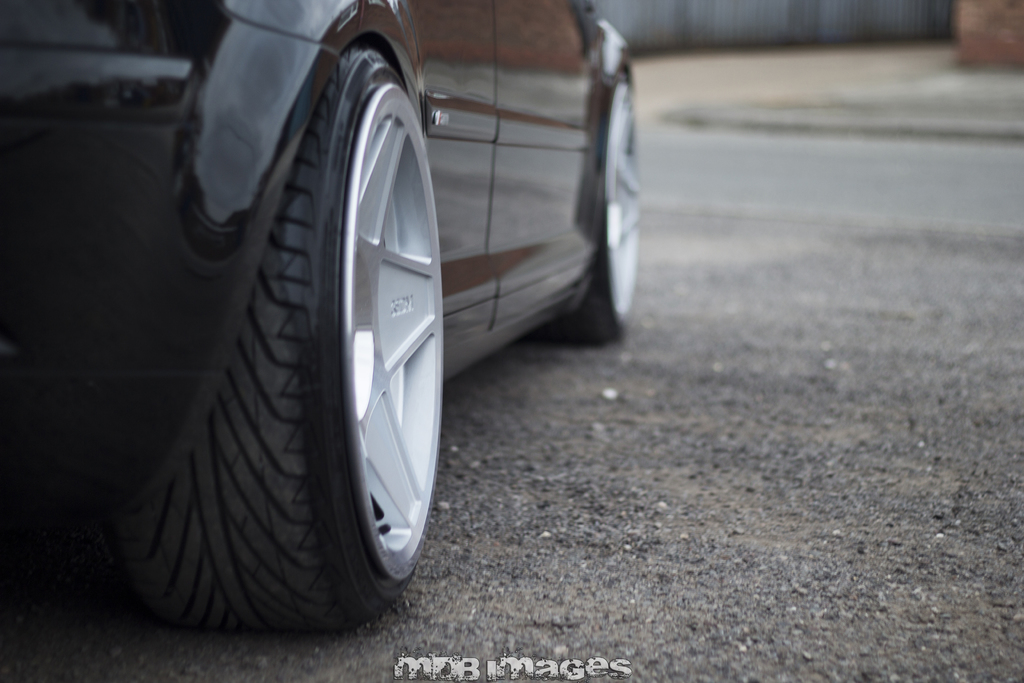Car: (0, 0, 638, 641)
